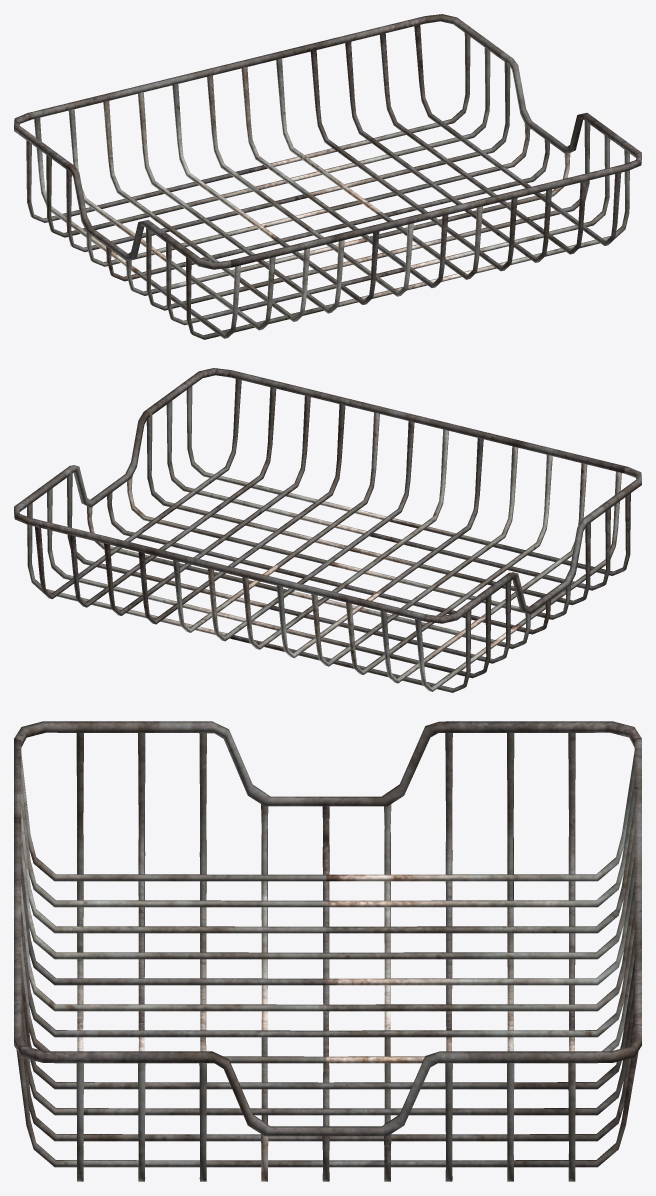
Rendered from paperBin01.FBX.
The picture shows the model from 3 angles, top to bottom: view 1: azimuth 30°, elevation 25°; view 2: azimuth 150°, elevation 25°; view 3: azimuth 270°, elevation 25°; orthographic projection. The views are drawn at different scales.
Parts seen in each view (by area): view 1: SM_PaperBin01; view 2: SM_PaperBin01; view 3: SM_PaperBin01.
Boxes of the visible parts, <box> form: SM_PaperBin01: <box>14,14,641,339</box>; SM_PaperBin01: <box>14,368,641,692</box>; SM_PaperBin01: <box>14,721,641,1181</box>.
Size of the model in its own units: 42.36 by 8.33 by 33.71.
Materials: 1 (1 with a texture image).
